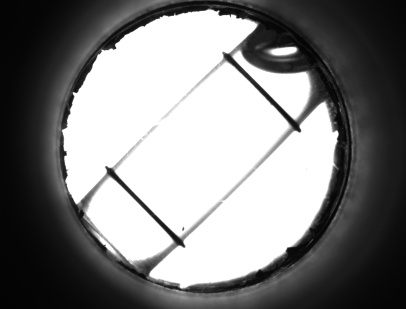line: (117, 188, 174, 225), (239, 78, 293, 110)
